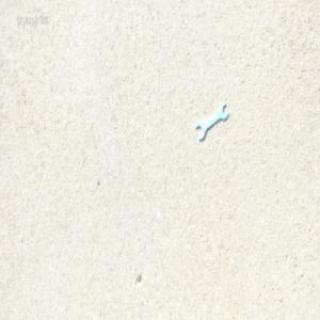Wrenchtrack_idkeyframe: (195, 101, 227, 139)
